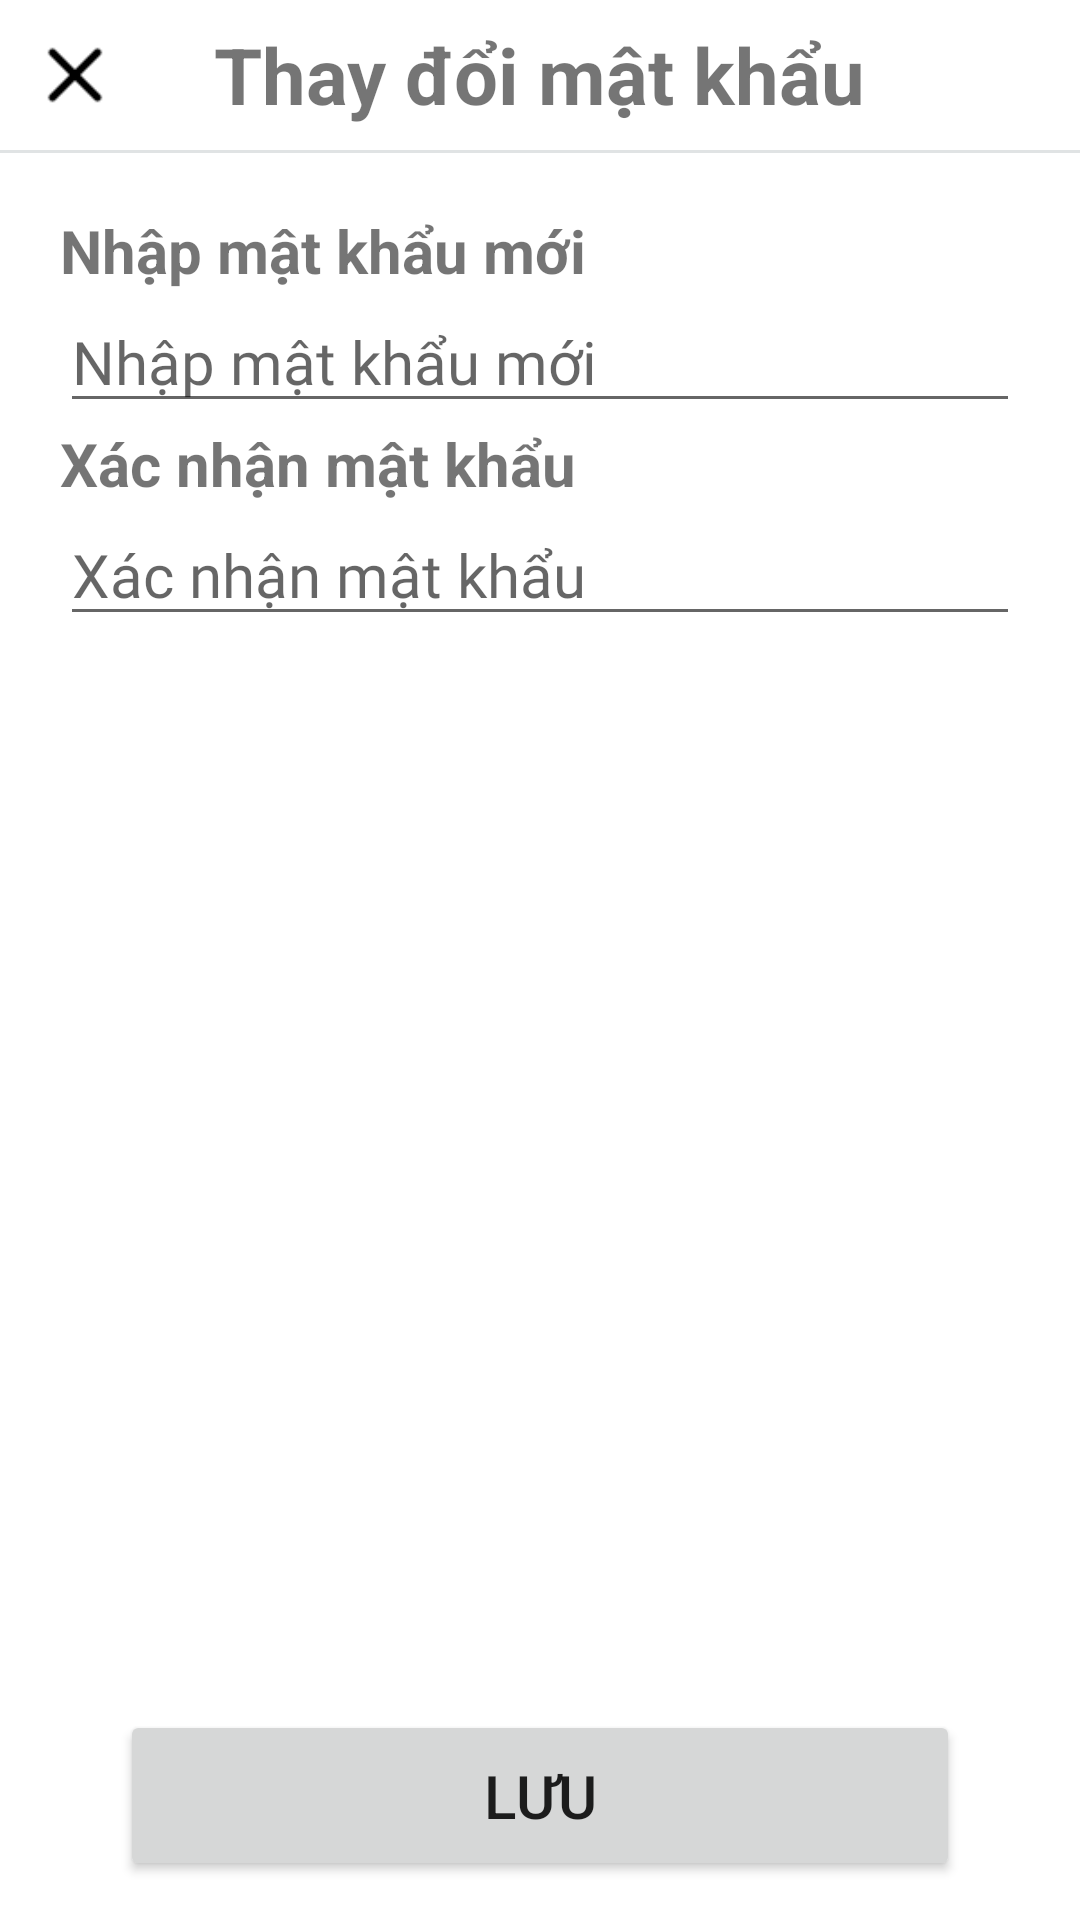

Where to tap for icons on this 1080px×1920px app screen, as point (x, y):
iconx: point (75, 75)
